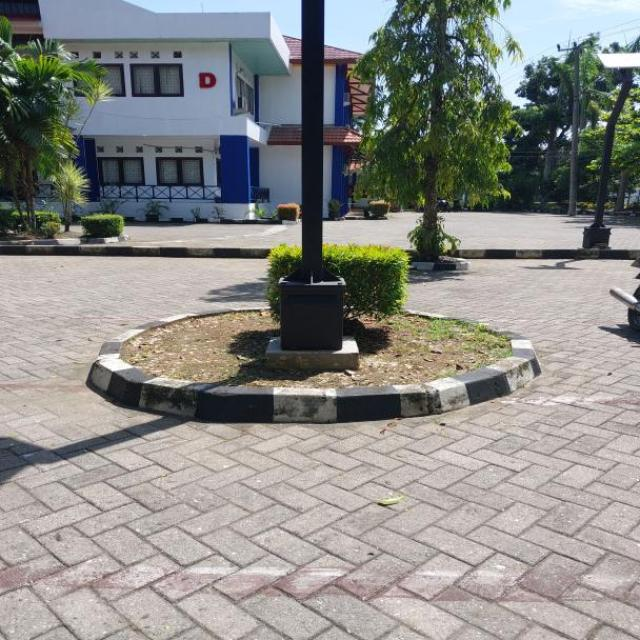electric pole ahead at: (268, 0, 352, 352)
